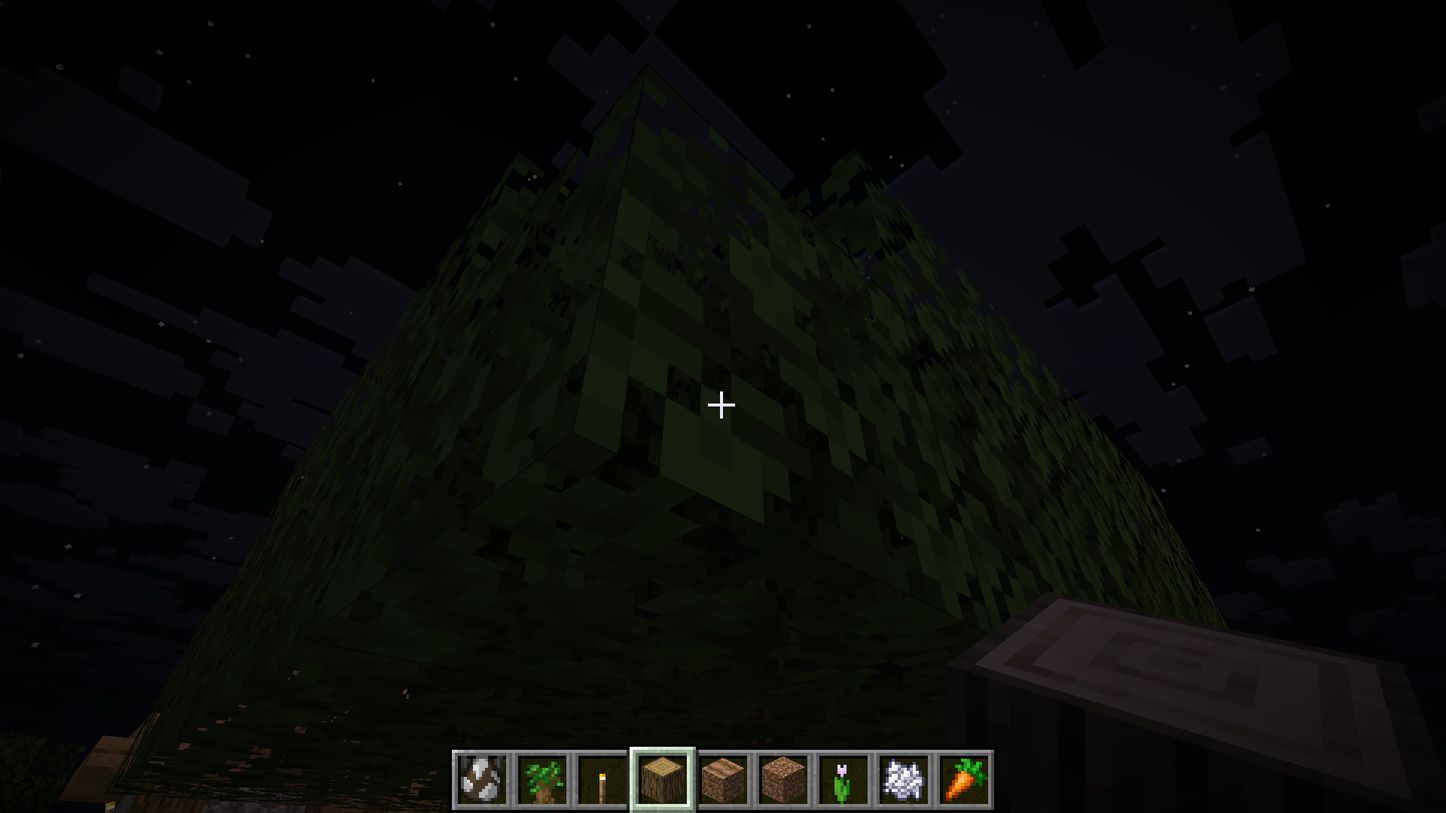wood: (970, 597, 1445, 810), (970, 666, 1434, 812)
